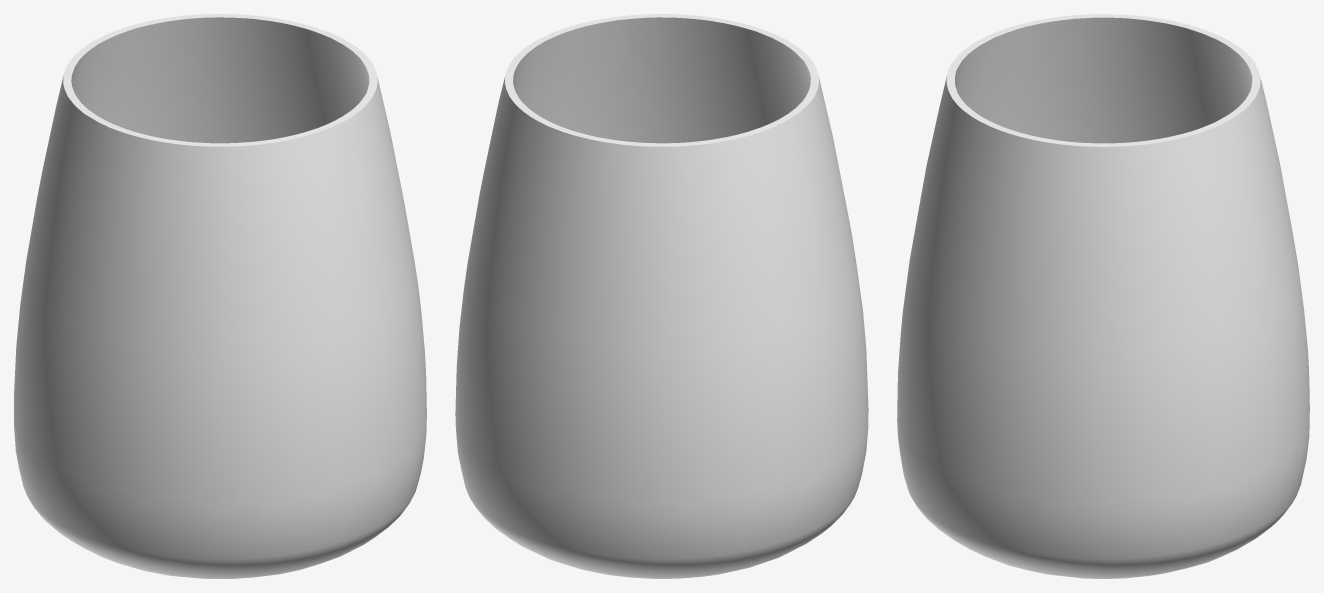
File: berakna_wazon_20327945.glb
The picture shows the model from 3 angles, left to right: view 1: azimuth 30°, elevation 25°; view 2: azimuth 150°, elevation 25°; view 3: azimuth 270°, elevation 25°; orthographic projection.
Visible parts, largest first — view 1: berakna_wazon_20327945; view 2: berakna_wazon_20327945; view 3: berakna_wazon_20327945.
Part boxes in pixels (bbox=[...]): berakna_wazon_20327945: bbox=[14, 14, 426, 578]; berakna_wazon_20327945: bbox=[455, 14, 868, 578]; berakna_wazon_20327945: bbox=[897, 14, 1309, 578].
Bounding box in the file's own units: 0.1509 × 0.1801 × 0.151.
1 material, 1 textured.
